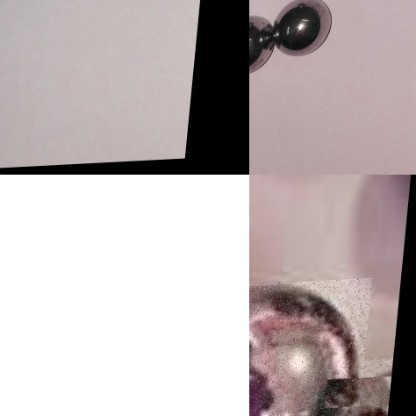ironball: (249, 282, 376, 415), (273, 0, 337, 57), (348, 362, 399, 415), (247, 13, 281, 79)
